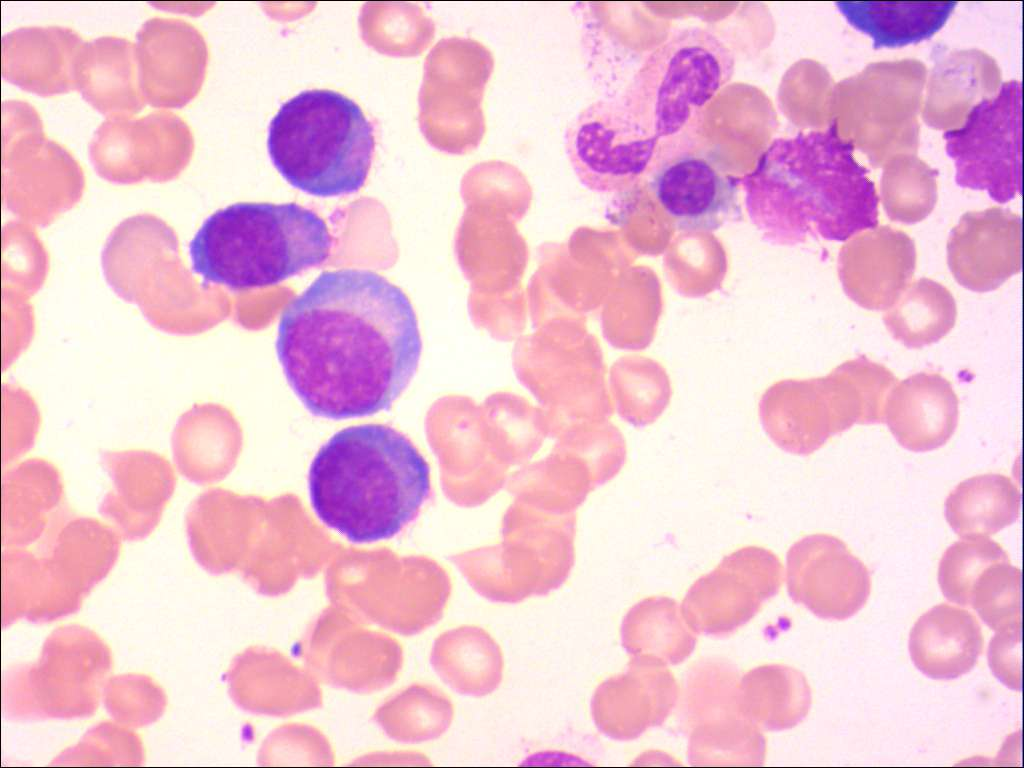23: (647, 147, 746, 235)
51: (270, 266, 426, 424), (304, 419, 437, 550), (185, 197, 340, 293), (261, 85, 382, 201)
6: (559, 22, 737, 196)
x: (738, 116, 884, 253), (940, 76, 1024, 208), (827, 1, 965, 53)
